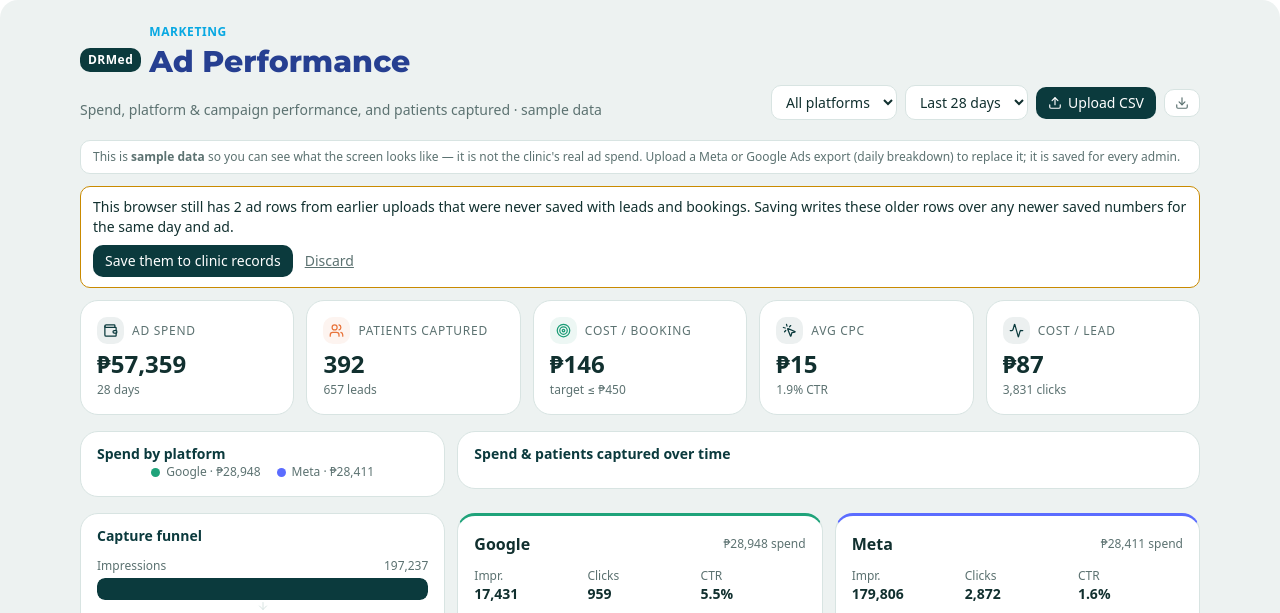
Test: one-time move of this browser's old rows › keeps the browser's copy when the save is ok but some rows were rejected, and says how many and why
Click the button "Save them to clinic records" at [193, 261], box [93,245,293,277]
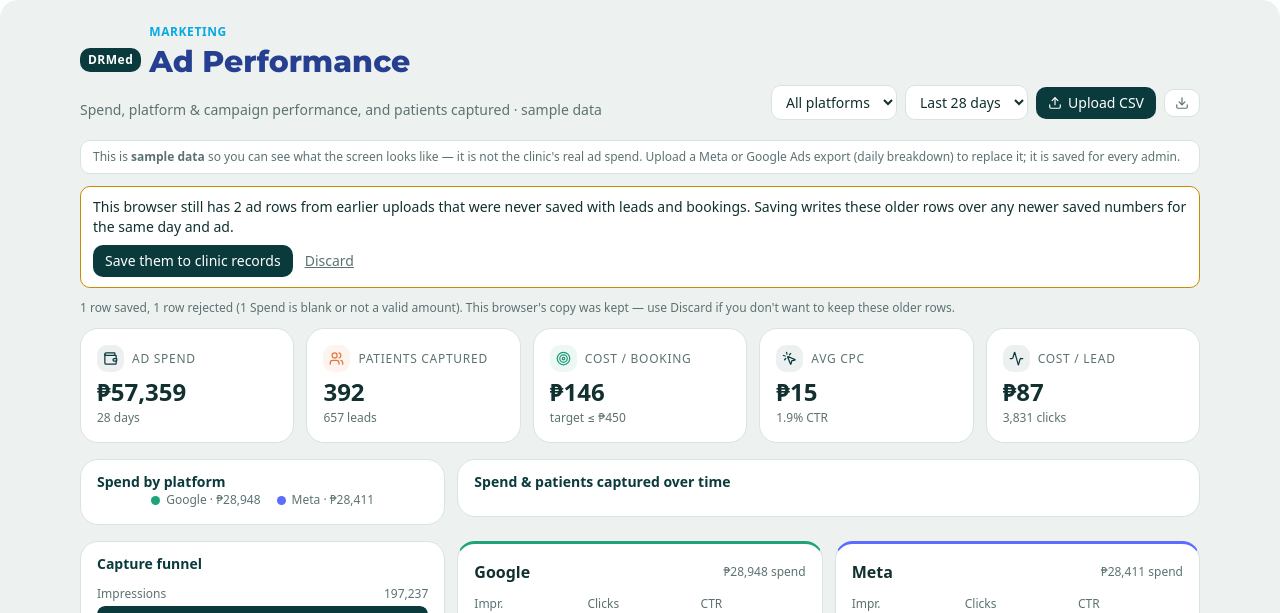
Check: the element named "only in this browser" is shown, box [80,186,1200,288]
Check: the message shows "Spend is blank or not a valid amount", box [80,299,955,316]
Check: the message shows "Discard", box [80,299,955,316]
